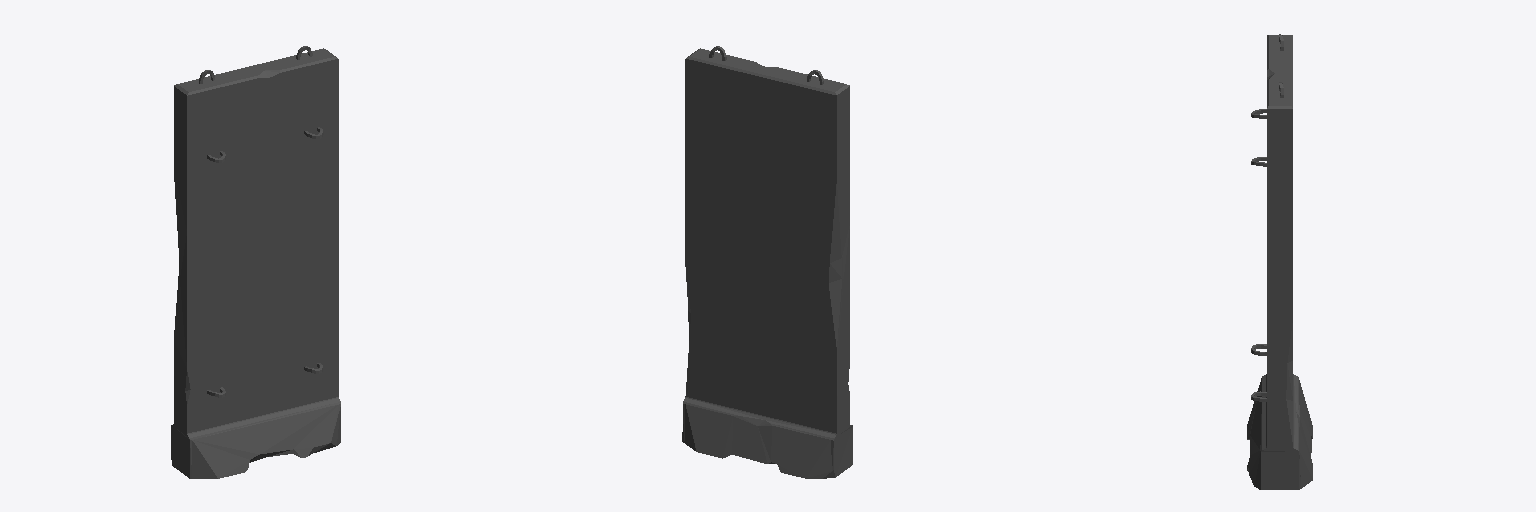
Rendered from Concrete Wall.obj.
The picture shows the model from 3 angles: view 1: azimuth 30°, elevation 25°; view 2: azimuth 150°, elevation 25°; view 3: azimuth 270°, elevation 25°; orthographic projection.
Parts seen in each view (by area): view 1: DrawCall_0; view 2: DrawCall_0; view 3: DrawCall_0.
Boxes of the visible parts, box(x1,y1,x2,y2) form: DrawCall_0: box(171, 46, 340, 478); DrawCall_0: box(682, 46, 852, 478); DrawCall_0: box(1247, 34, 1312, 489).
Size of the model in its own units: 0.5575 by 1.39 by 0.2126.